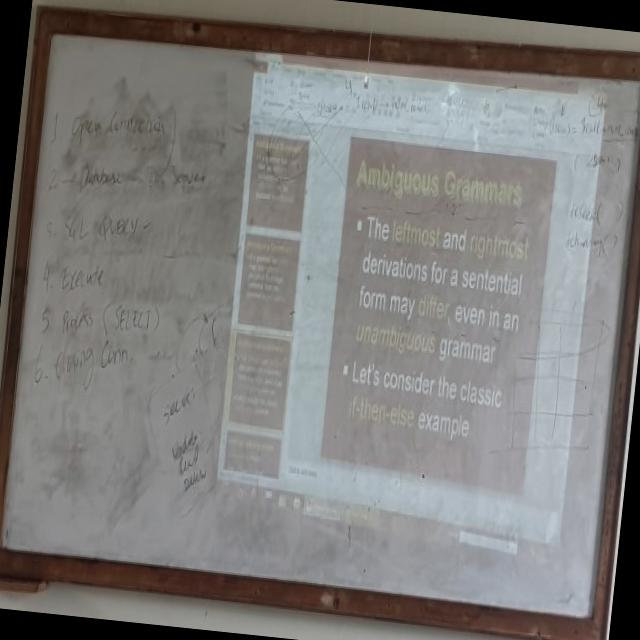Slide: (213, 43, 605, 572)
White-board: (0, 23, 640, 639)
